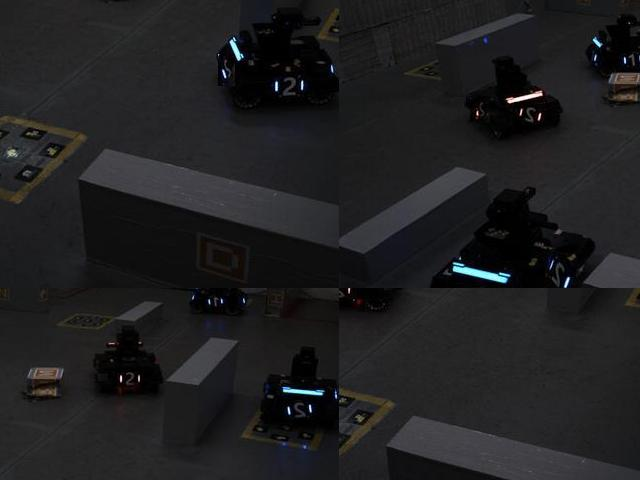armor: (545, 253, 579, 287), (273, 77, 307, 102), (283, 397, 317, 422), (514, 102, 546, 126), (218, 54, 236, 87), (471, 97, 492, 124), (116, 370, 144, 388), (617, 49, 639, 71), (206, 295, 226, 311), (339, 288, 358, 304)
